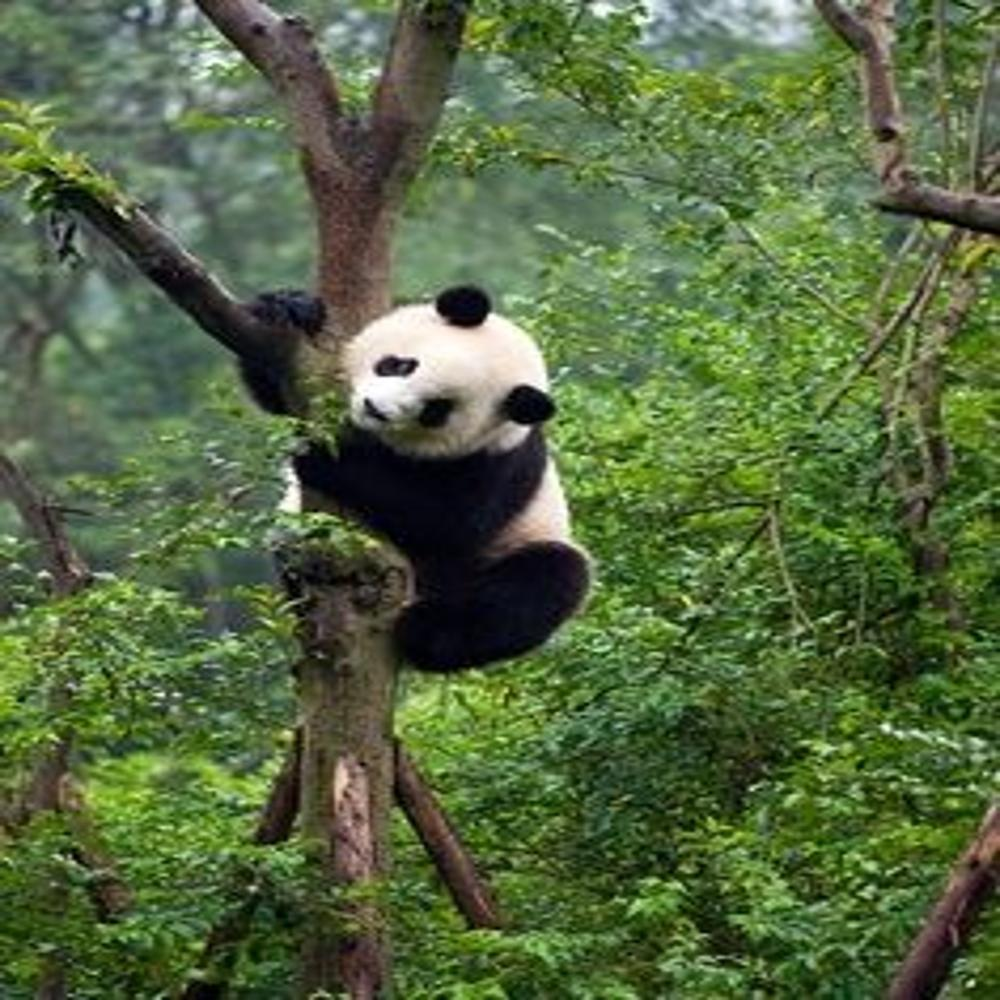panda: (226, 276, 605, 677)
